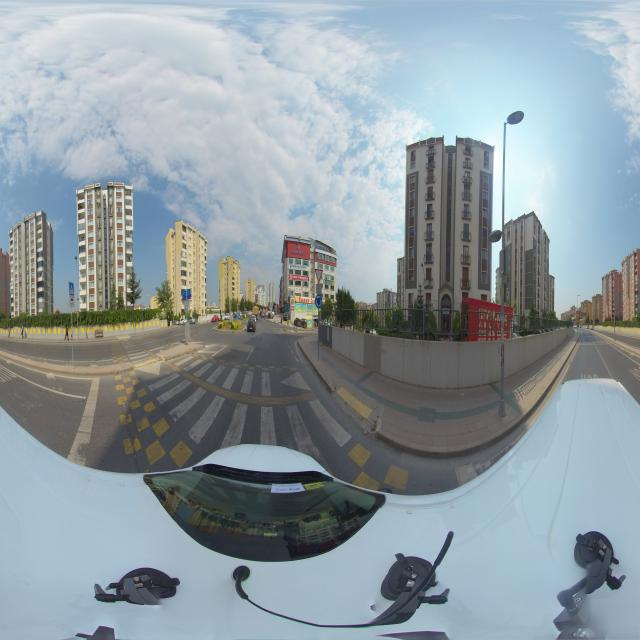SignStore: (298, 296, 315, 304), (290, 264, 308, 271), (290, 275, 309, 281), (291, 249, 305, 256), (323, 270, 334, 276), (324, 279, 334, 285)
